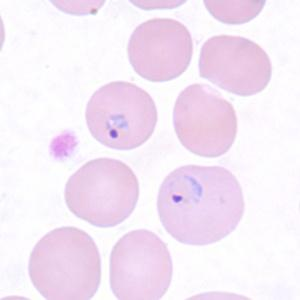Infected: (157, 164, 245, 246), (84, 80, 158, 151)
Uninfected: (28, 225, 102, 300), (64, 157, 139, 229), (172, 82, 238, 158), (109, 228, 173, 300), (200, 34, 273, 95), (127, 18, 194, 82)
